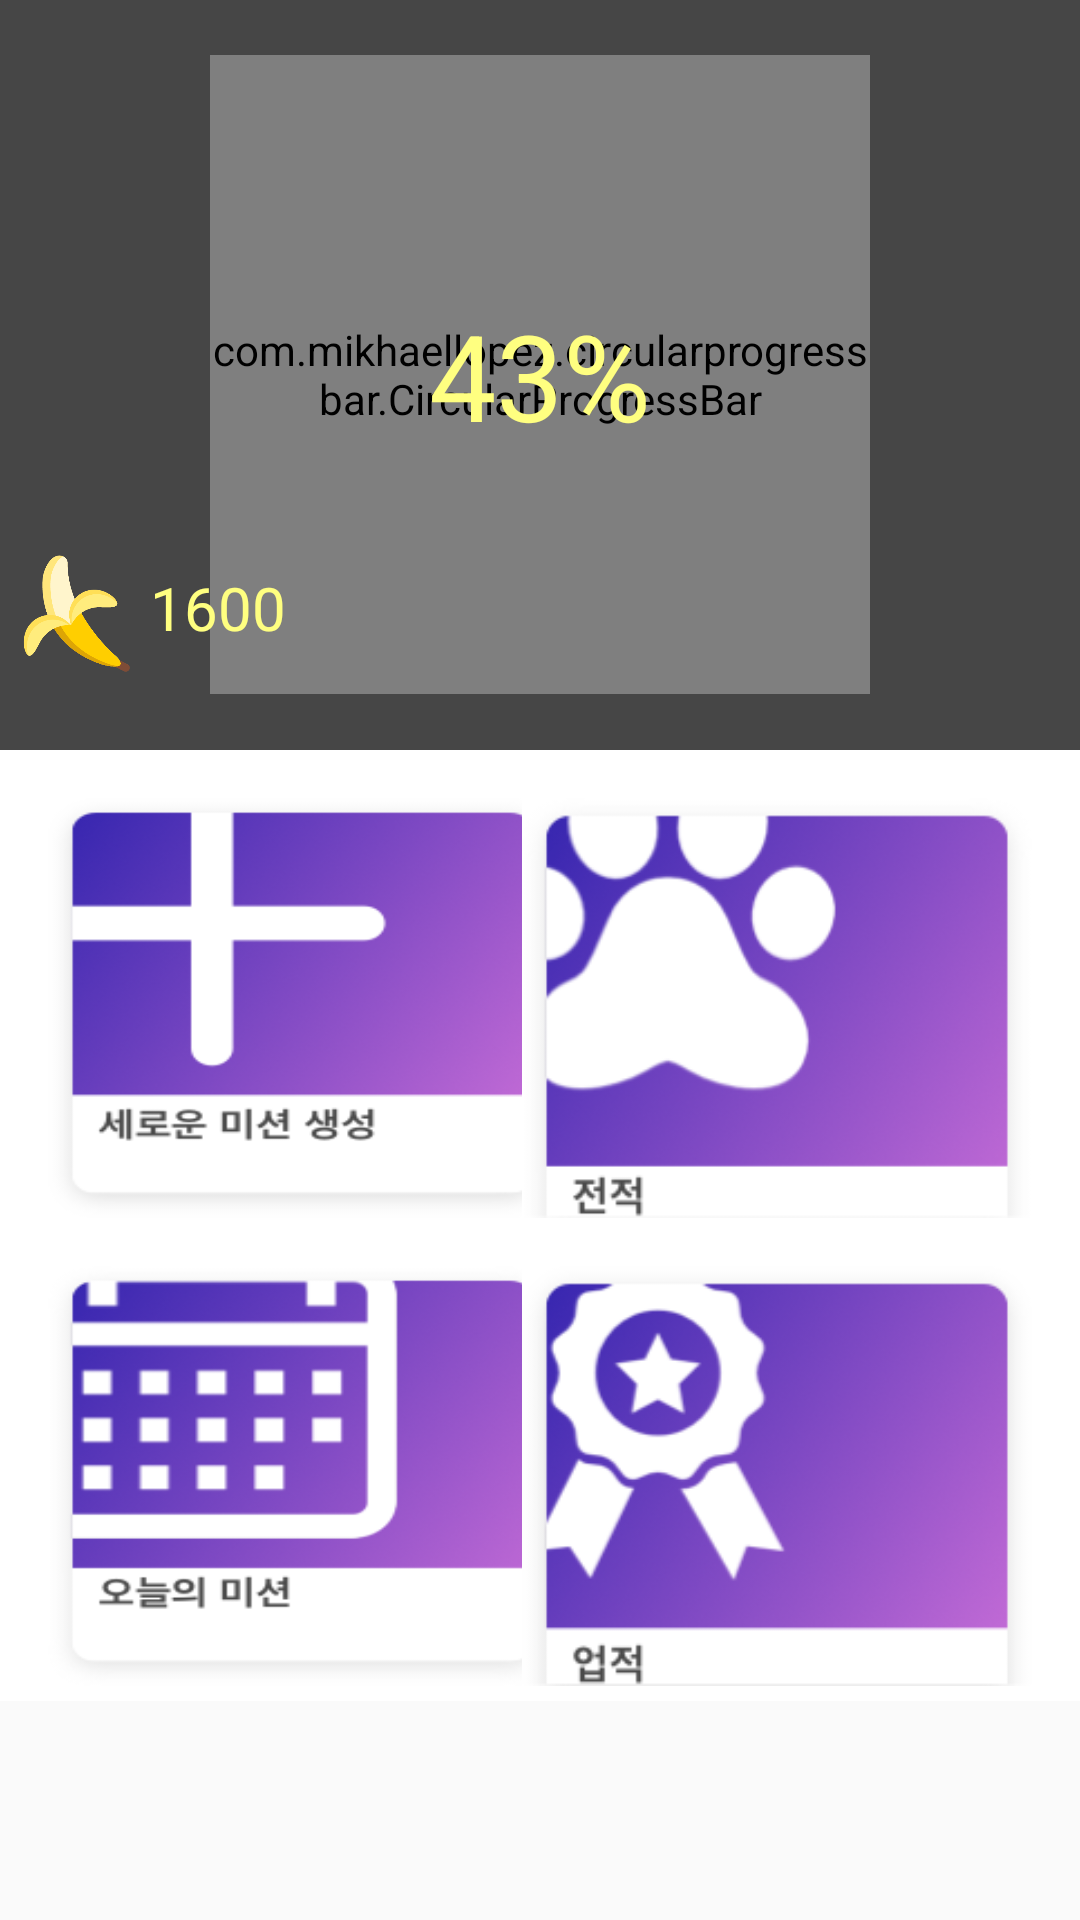

Icon click points for this 1080px×1920px phone screenshot, format (x=x, y=y):
banana: (x=77, y=613)
